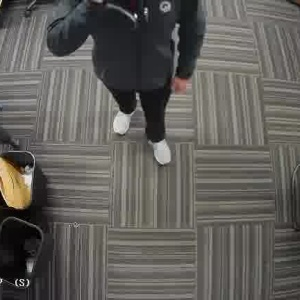person: (81, 0, 189, 166)
